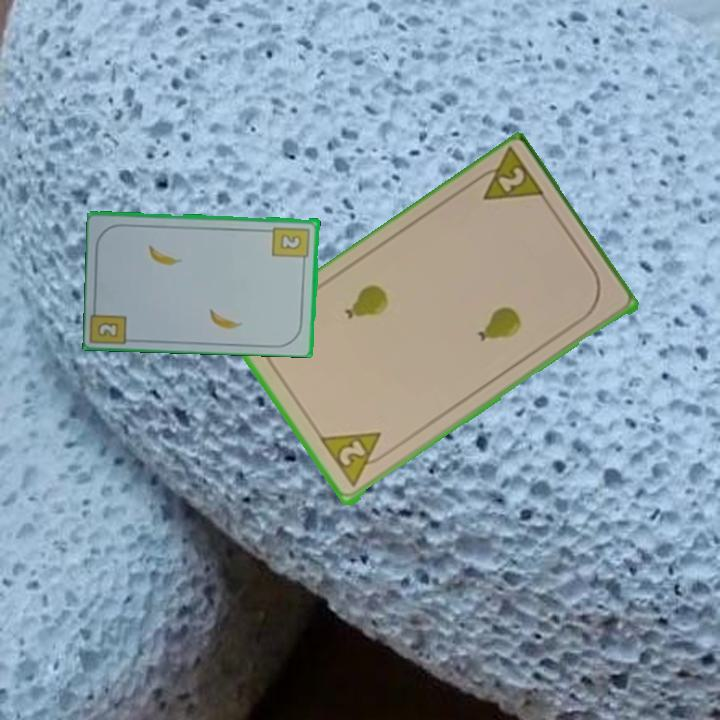2b: (270, 223, 312, 266), (94, 319, 121, 340)
2p: (467, 146, 549, 205), (317, 428, 393, 491)
